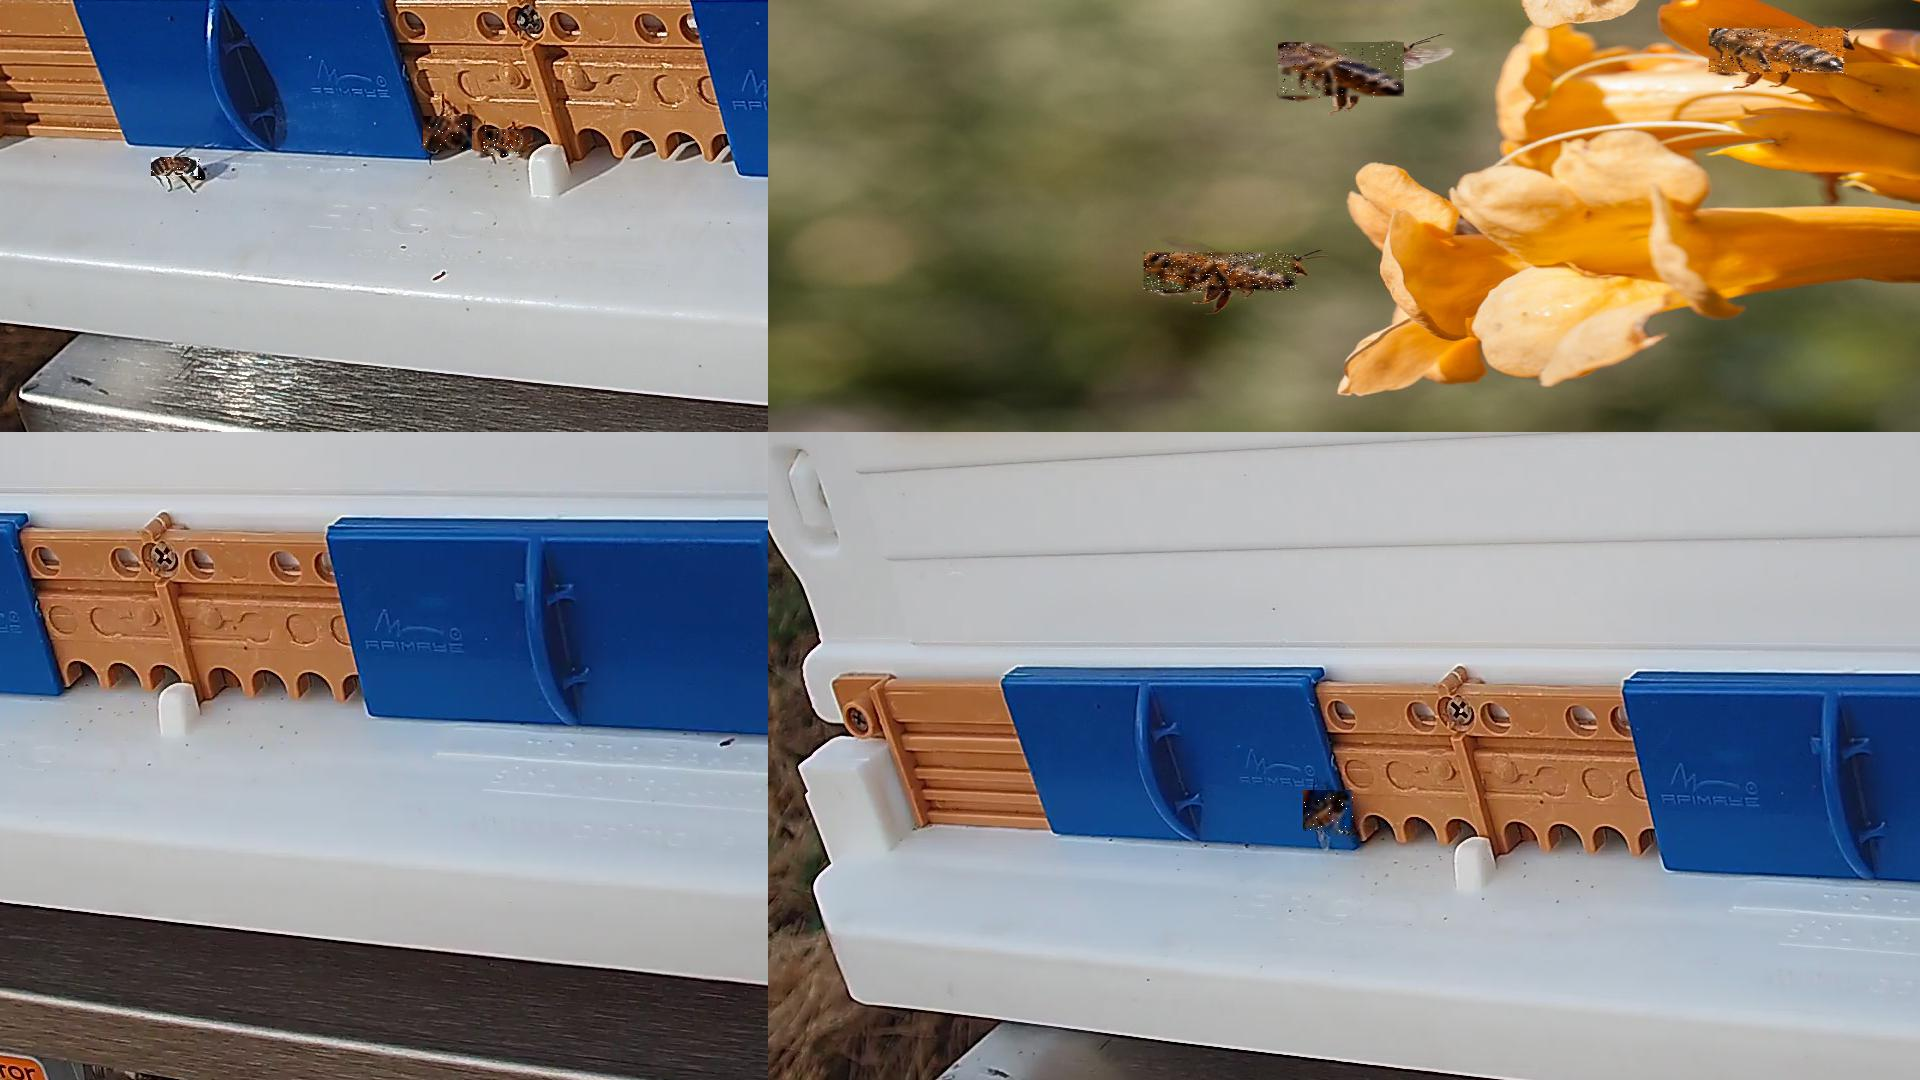bee: (1279, 42, 1406, 99), (1710, 29, 1849, 75), (1145, 253, 1299, 293), (1304, 791, 1356, 833), (423, 116, 473, 152), (152, 158, 203, 181), (483, 129, 524, 157)
